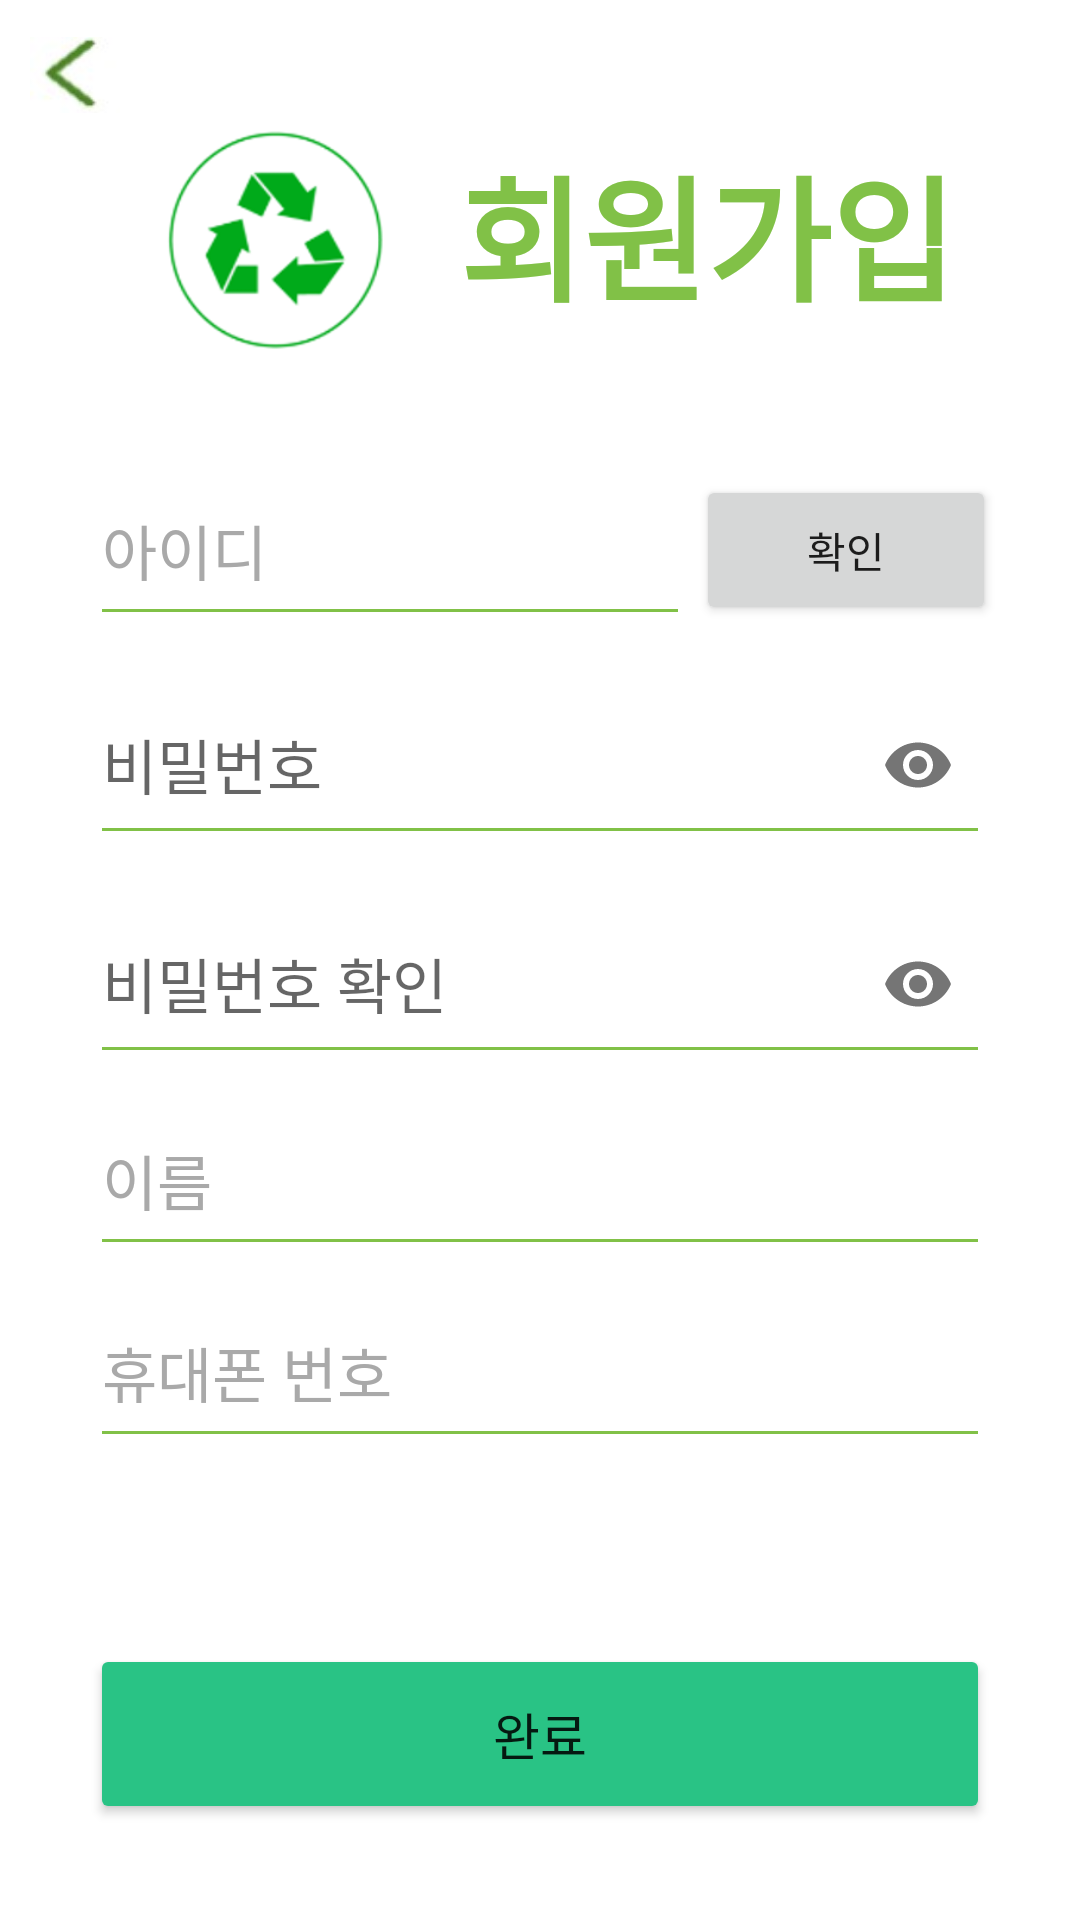

Named icons in this screenshot (1080x1920) and their bounding boxes, (x1, y1, x2, y2):
back: (45, 38, 97, 108)
